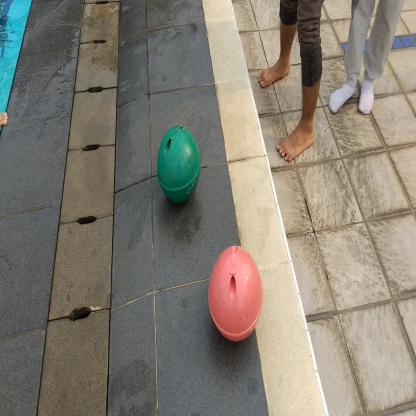green_buoy: (155, 120, 203, 214)
red_buoy: (202, 238, 267, 356)
